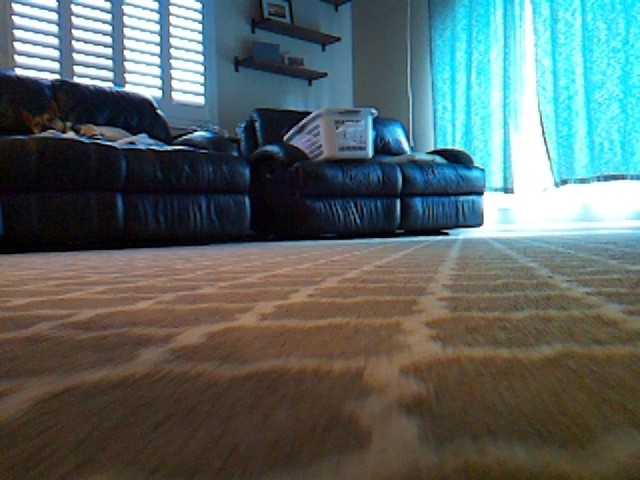Drivable Area: (1, 259, 640, 480), (257, 244, 640, 281)
Obstacle: (0, 63, 246, 254), (243, 101, 487, 238)
